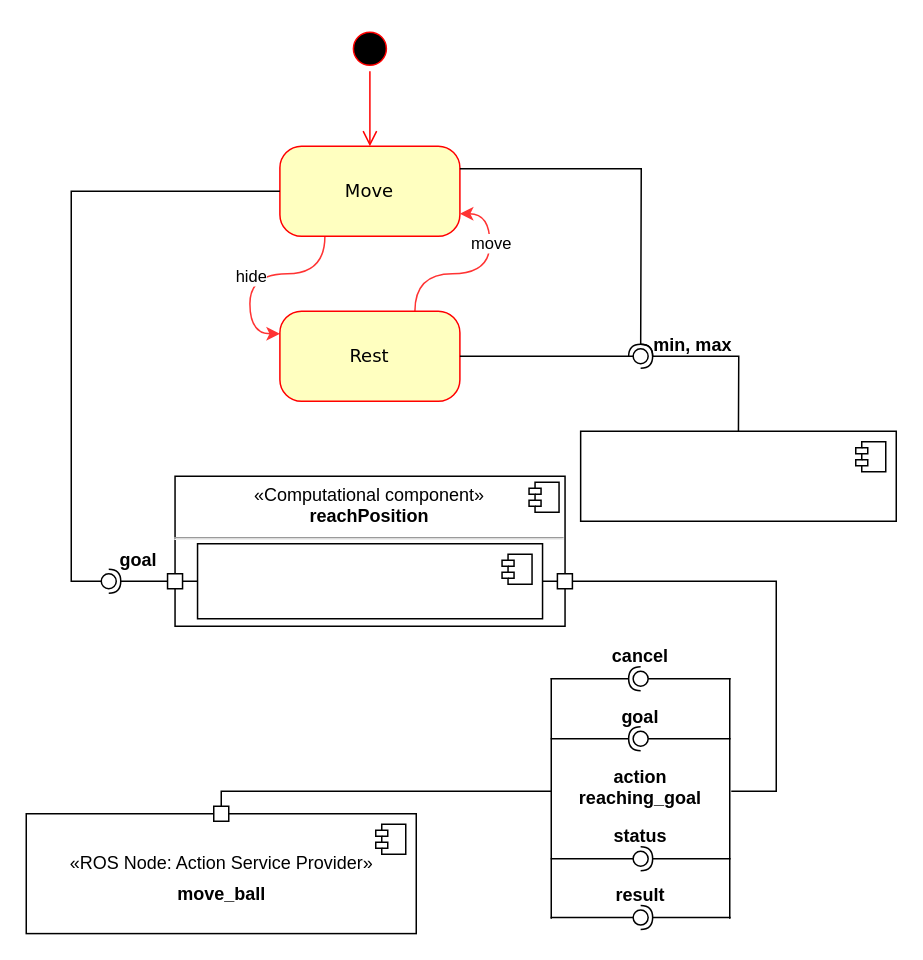
Some shapes in this 923 by 960 pixel diagram are drawn without their labels. The shapes that lost their labels are listed below. From the top down, each one's box as (x1, y1, x2, y2) in pixels, then its label:
(579, 430, 896, 521): «Computational component» waitForRandTime
(196, 542, 543, 619): «ROS Action Service Client» planning_client
